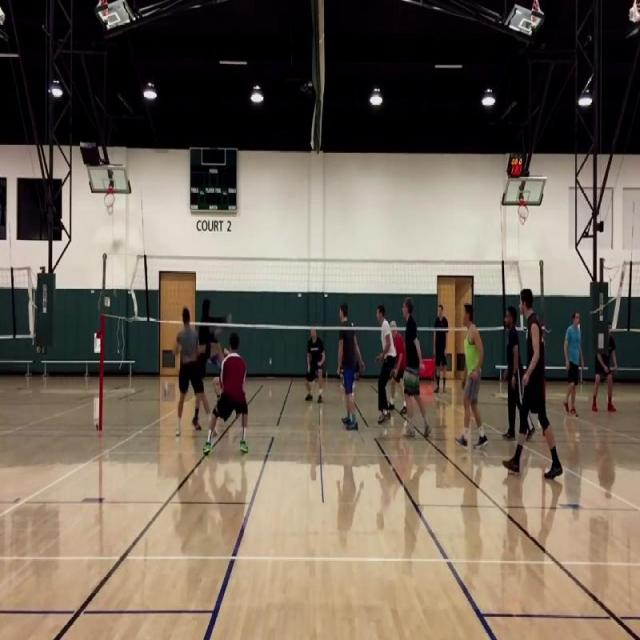volleyball: (162, 384, 169, 398)
